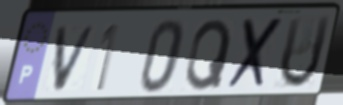0: (137, 17, 186, 95)
1: (95, 23, 121, 92)
Q: (183, 17, 235, 93)
U: (277, 13, 334, 92)
V: (51, 23, 100, 94)
X: (224, 15, 287, 93)
